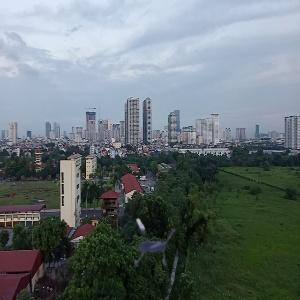drone: (114, 202, 192, 280)
